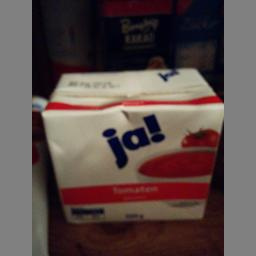tomato_sauce: (40, 65, 221, 224)
